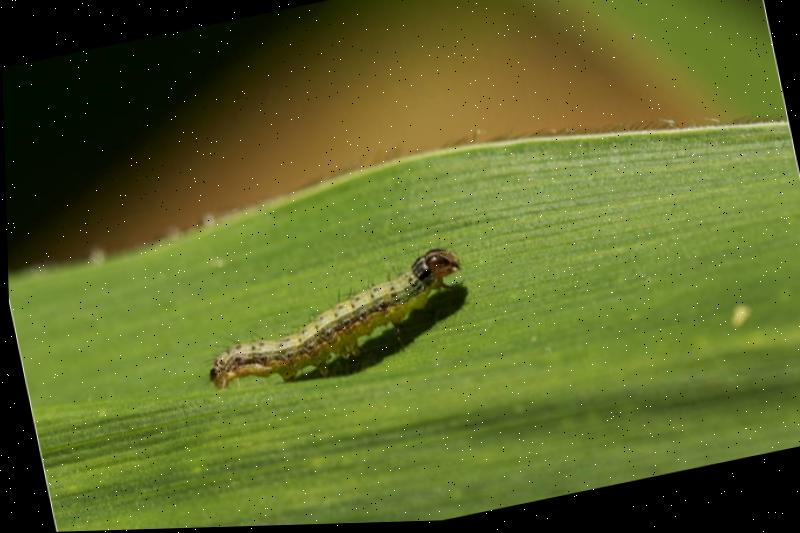fall-armyworm: (209, 251, 461, 393)
